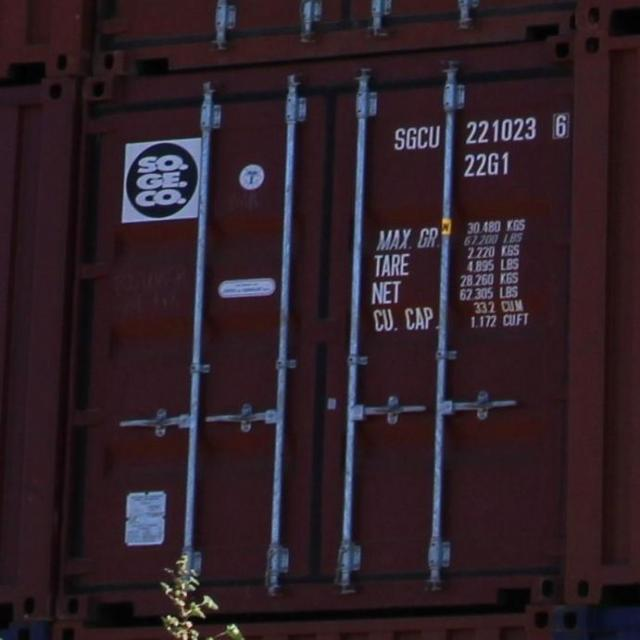ISO: (461, 148, 514, 178)
container_number: (393, 110, 570, 149)
